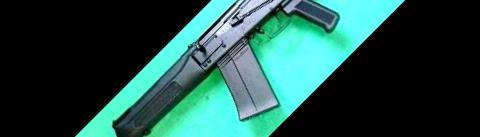larga: (111, 0, 342, 137)
